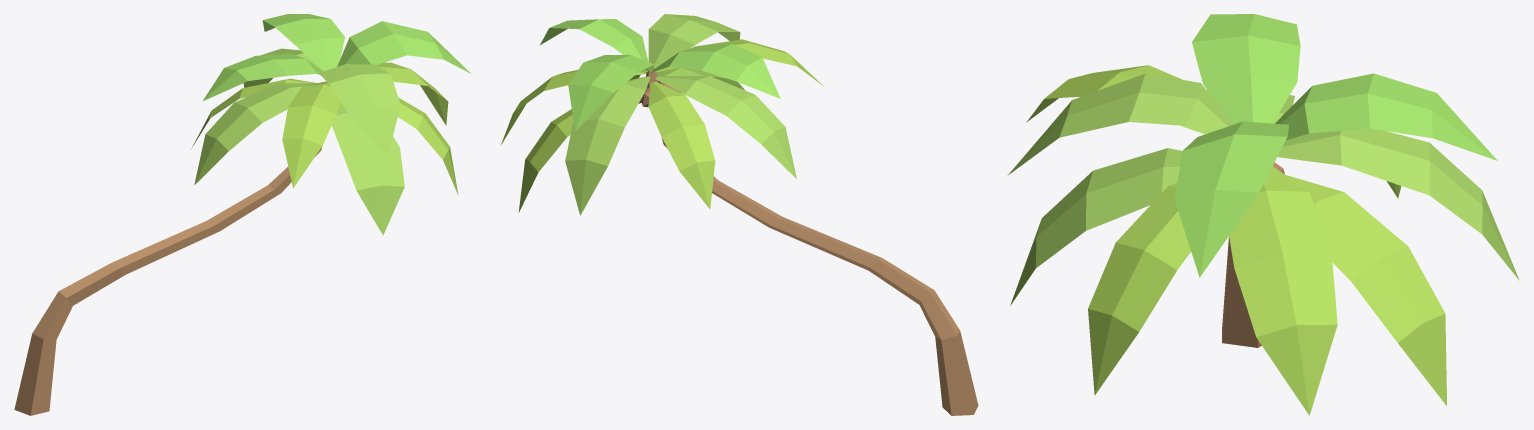
The model's file is Palm_Tree_Coconut_l_05_LOD.fbx.
3 views of the same model, side by side, from view 1: azimuth 30°, elevation 25°; view 2: azimuth 150°, elevation 25°; view 3: azimuth 270°, elevation 25° (orthographic). The views are drawn at different scales.
Parts seen in each view (by area): view 1: Palm_Tree_Coconut_l_05_LOD0; view 2: Palm_Tree_Coconut_l_05_LOD0; view 3: Palm_Tree_Coconut_l_05_LOD0.
Boxes of the visible parts, x1,y1,x2,y2 form: Palm_Tree_Coconut_l_05_LOD0: (14, 14, 470, 415); Palm_Tree_Coconut_l_05_LOD0: (501, 14, 978, 415); Palm_Tree_Coconut_l_05_LOD0: (1007, 14, 1519, 415).
Size of what is drawn, in the model's own units: 756 by 470 by 434.
